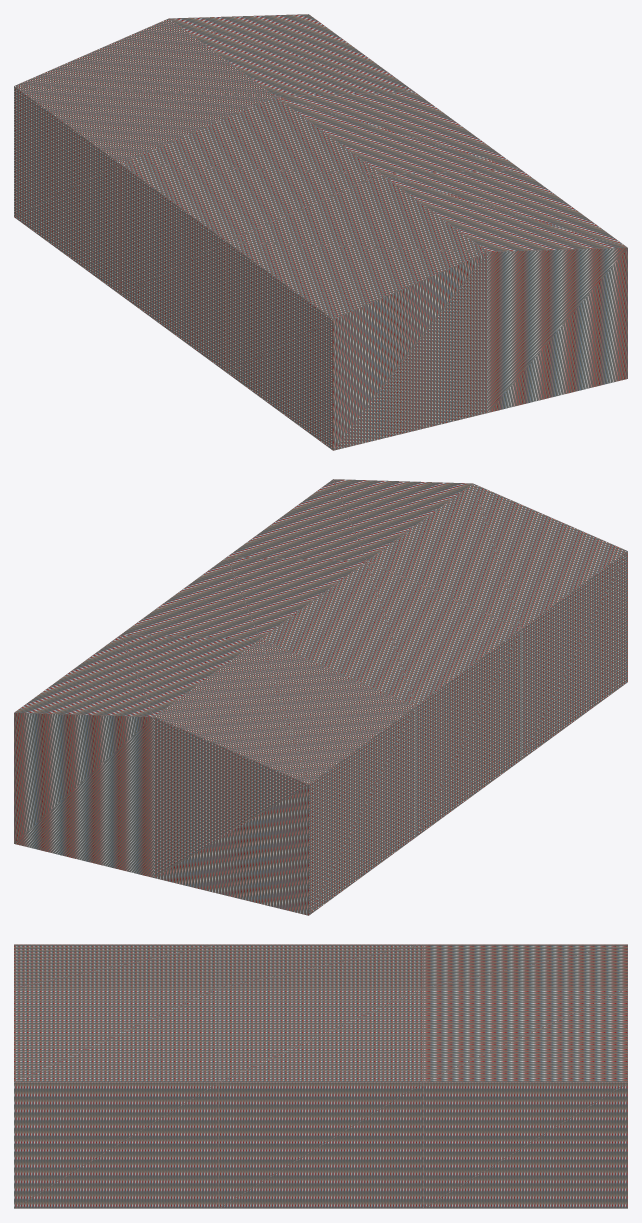
File: radar.gltf
3 views of the same model, one above another, from view 1: azimuth 30°, elevation 25°; view 2: azimuth 150°, elevation 25°; view 3: azimuth 270°, elevation 25° (orthographic). The views are drawn at different scales.
Parts seen in each view (by area): view 1: node1; view 2: node1; view 3: node1.
Part boxes in pixels (bbox=[...]): node1: bbox=[14, 14, 627, 450]; node1: bbox=[14, 479, 627, 915]; node1: bbox=[14, 944, 627, 1208].
Size of the model in its own units: 16 by 8.35 by 30.
